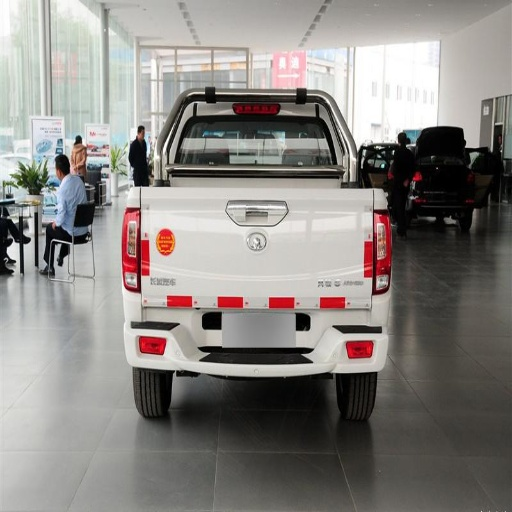back_bumper: (124, 291, 385, 374)
trunk: (125, 169, 374, 330)
